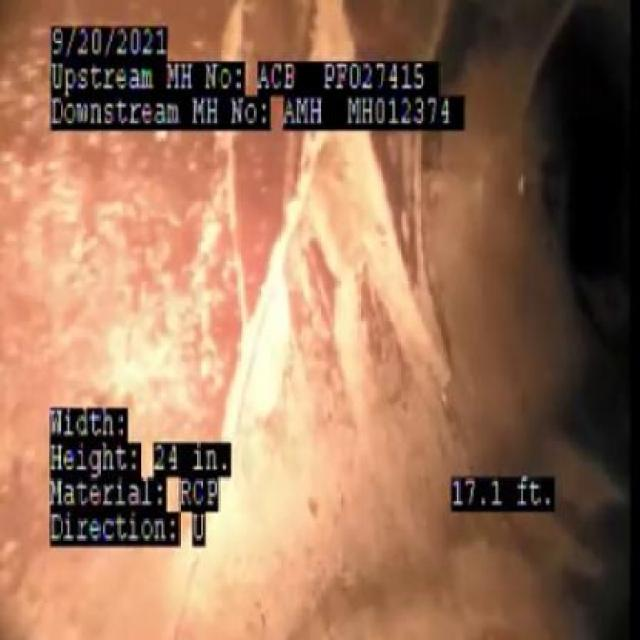Buckling: (329, 136, 460, 387)
